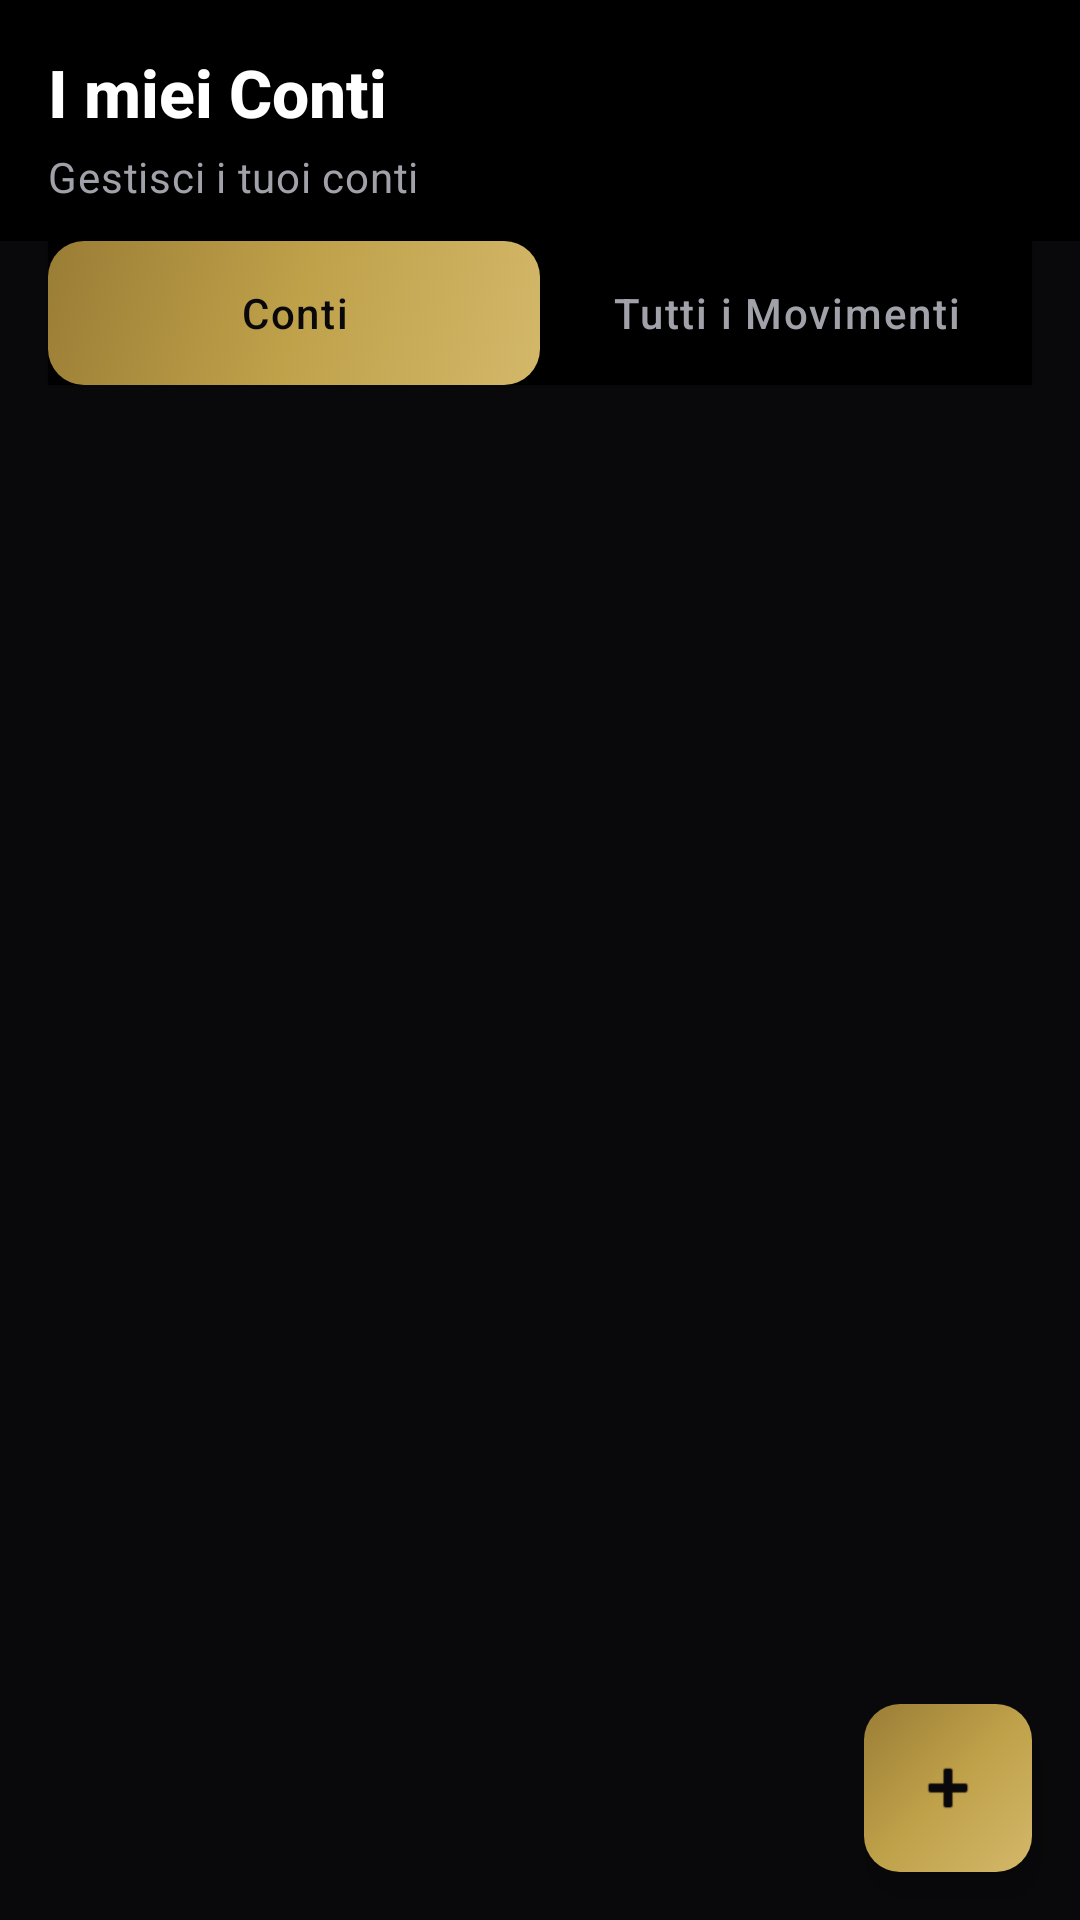

Icons on this 1080 x 1920 Android screen, each with the point to tap as (x=x, y=y):
Aggiungi Conto: (x=948, y=1788)
